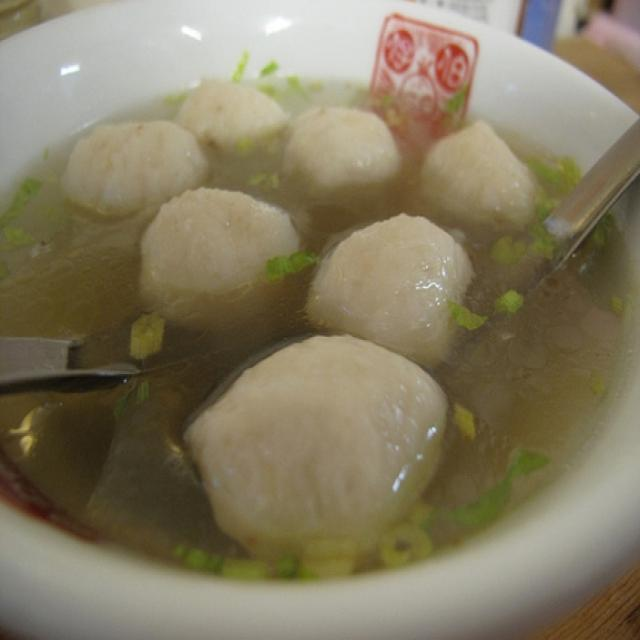熟制海鲜: (18, 55, 623, 585)
